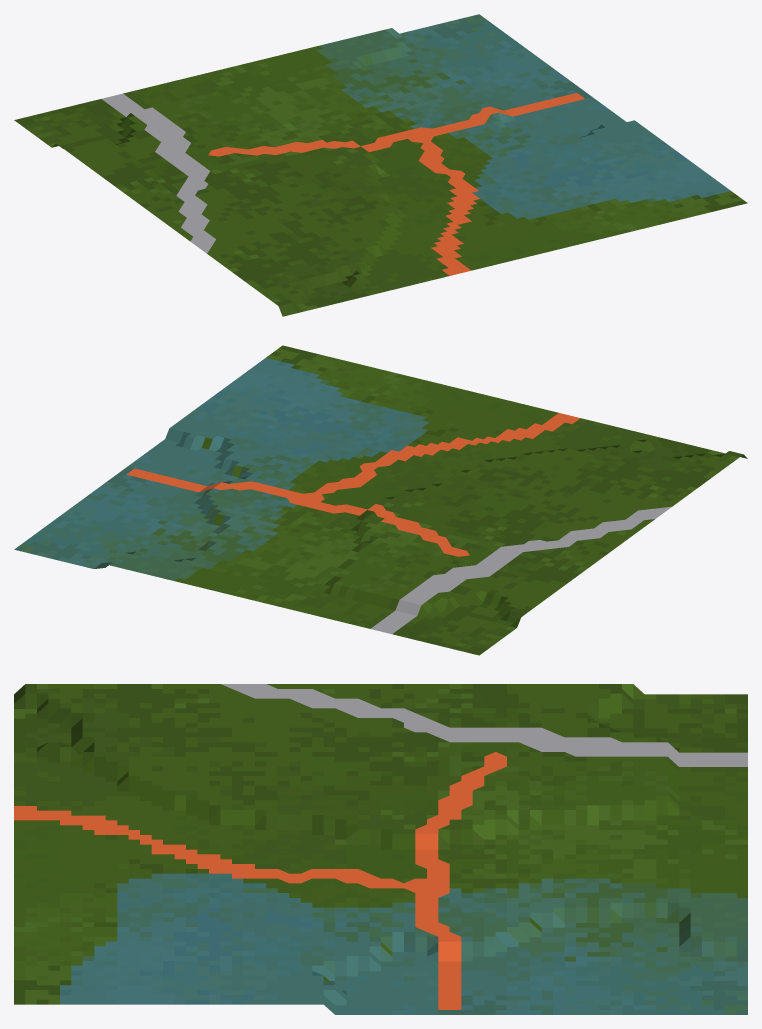
The model's file is Chunk 12.glb.
3 renders of one model, top to bottom at view 1: azimuth 30°, elevation 25°; view 2: azimuth 150°, elevation 25°; view 3: azimuth 270°, elevation 25°, orthographic. The views are drawn at different scales.
Parts seen in each view (by area): view 1: Chunk 12; view 2: Chunk 12; view 3: Chunk 12.
Part boxes in pixels (box(x1,y1,x2,y2)): Chunk 12: box(14, 14, 747, 316); Chunk 12: box(14, 345, 747, 655); Chunk 12: box(14, 684, 747, 1014).
Bounding box in the file's own units: 64 × 2 × 64.
4 materials, 2 textured.
